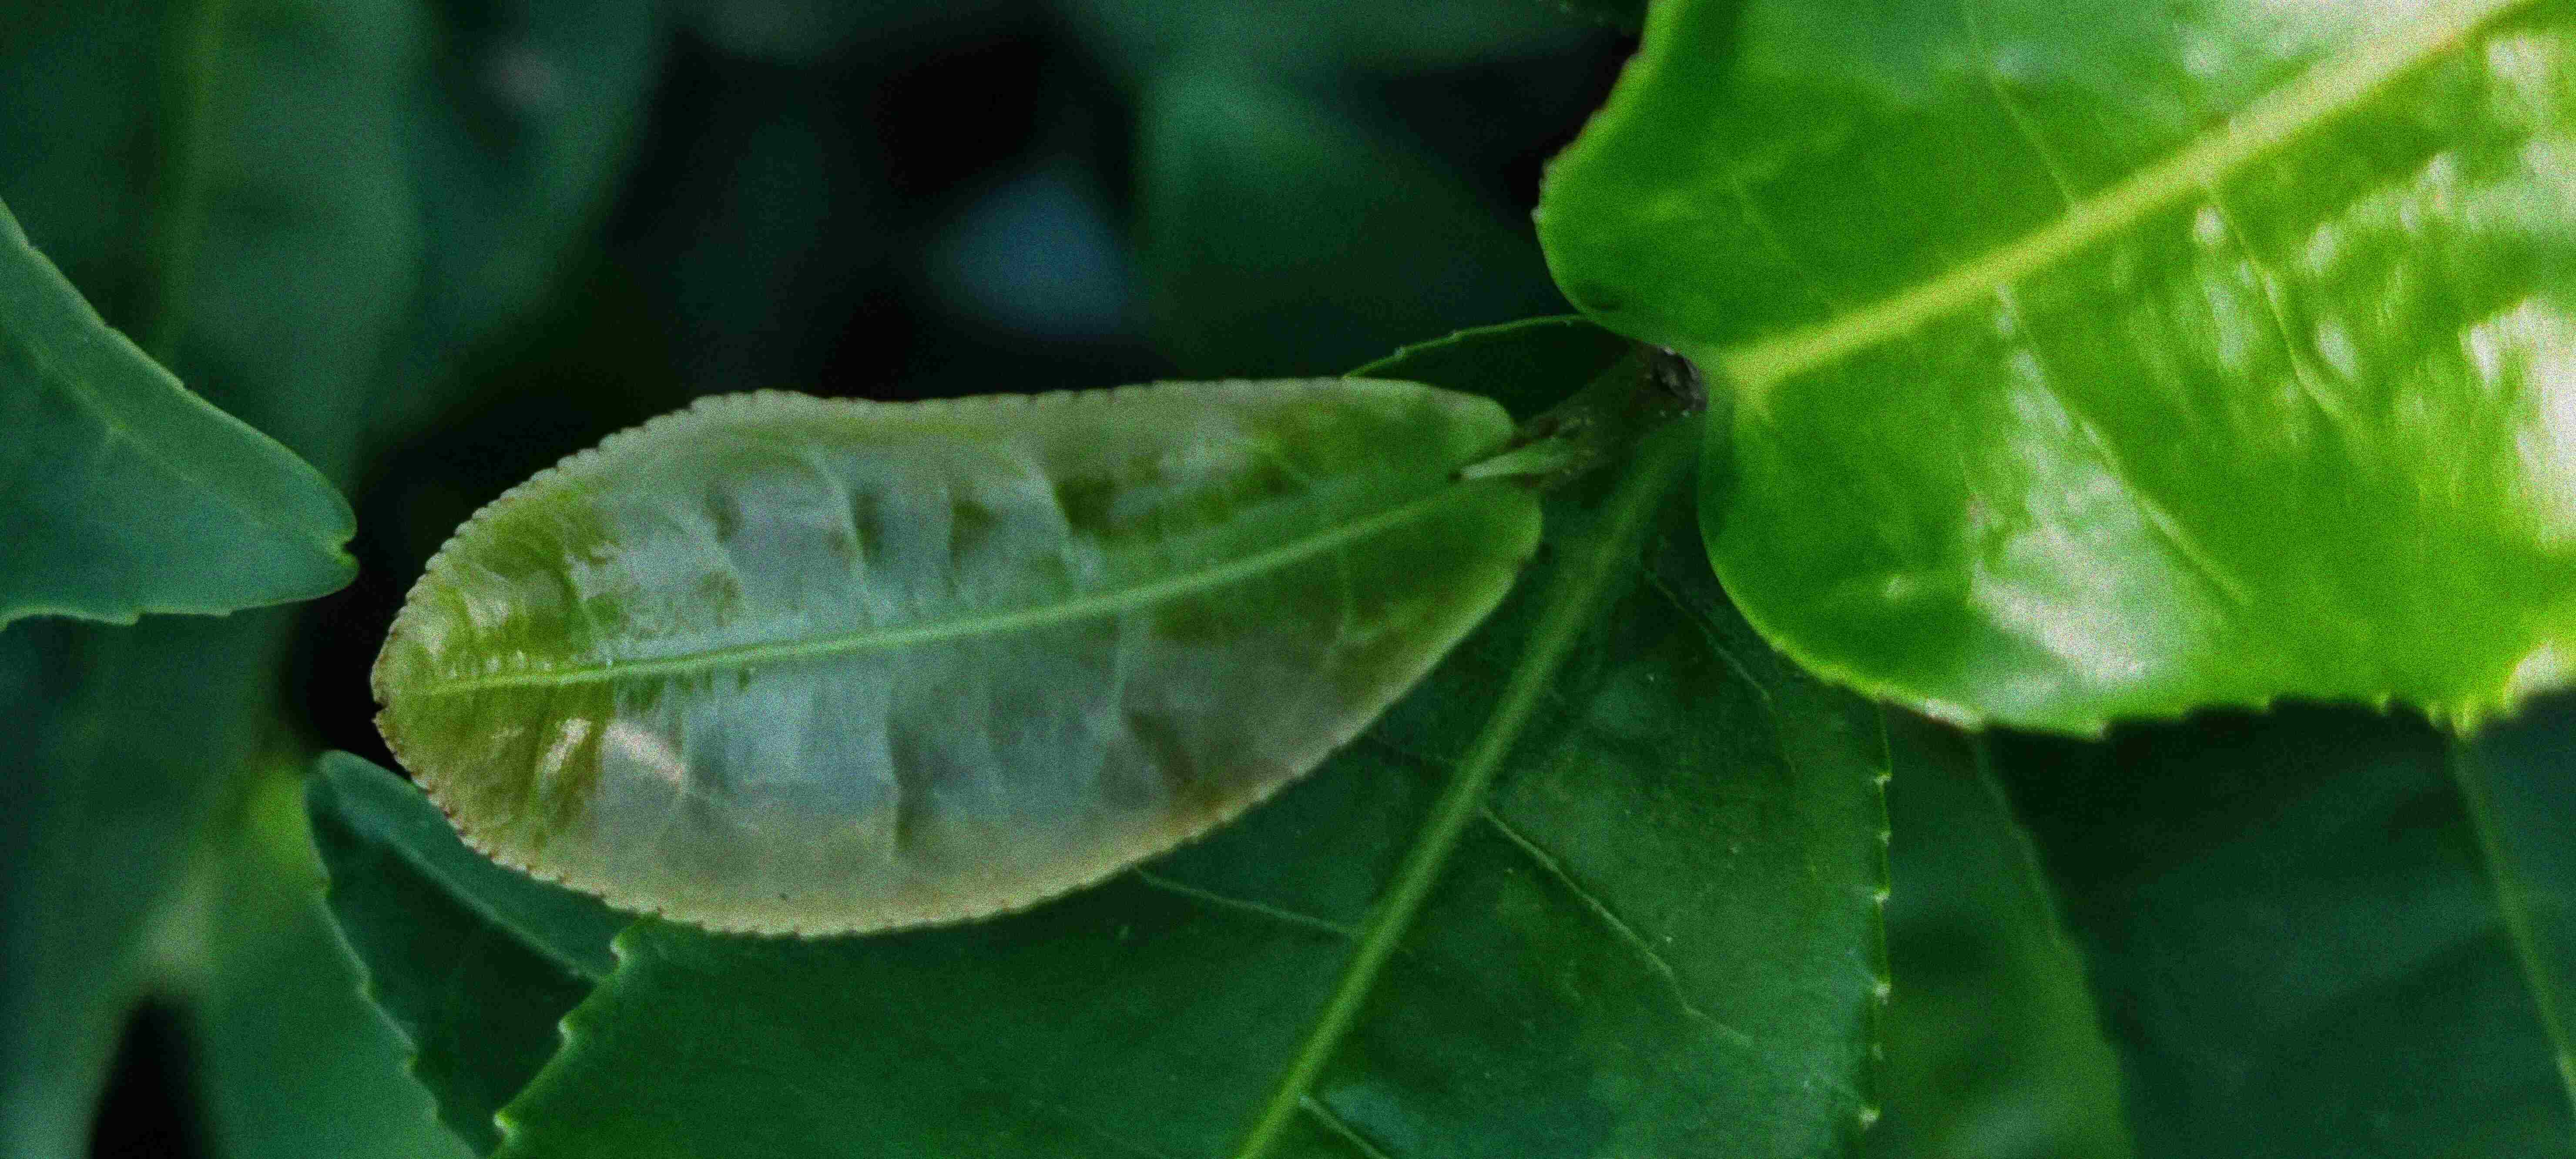healthy: (1539, 5, 2576, 729)
tanju_low: (368, 376, 1549, 944)
